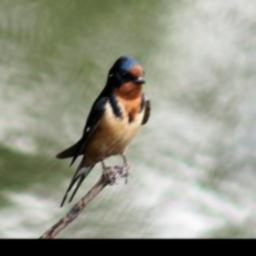Swallow: (60, 54, 153, 209)
